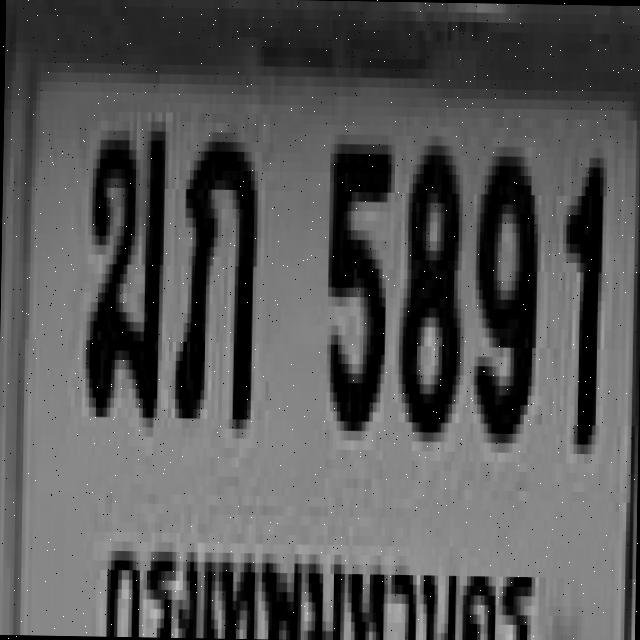1: (559, 148, 600, 444)
15KhorRaKhang: (81, 120, 162, 417)
41PhorSamPhao: (171, 131, 255, 419)
5: (322, 134, 388, 422)
8: (397, 136, 460, 432)
9: (469, 146, 535, 434)
